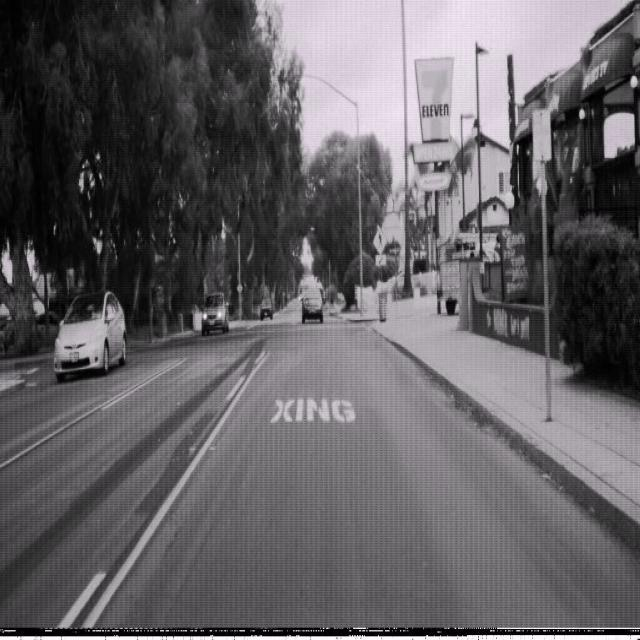pedestrianCrossing: (372, 224, 387, 255)
